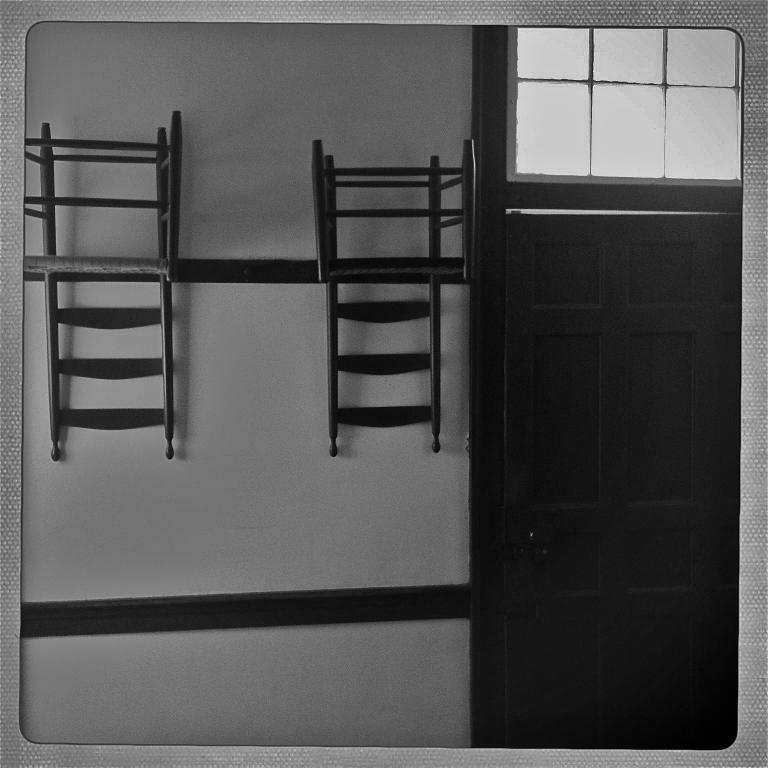Chair: (293, 144, 495, 559), (24, 115, 181, 473)
